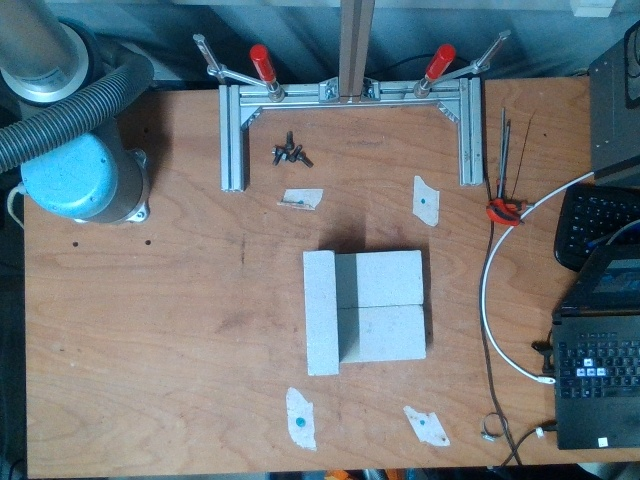brick-side: (302, 252, 340, 375)
